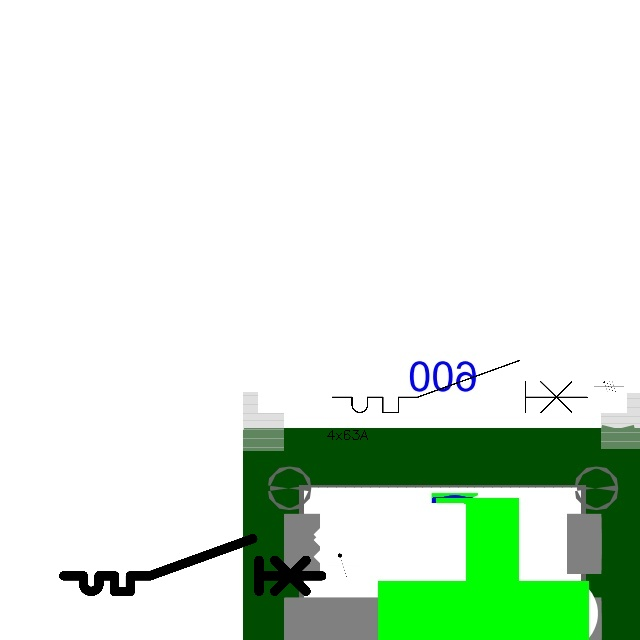interruptor_termomagnetico: (57, 532, 328, 598), (326, 354, 593, 419)
